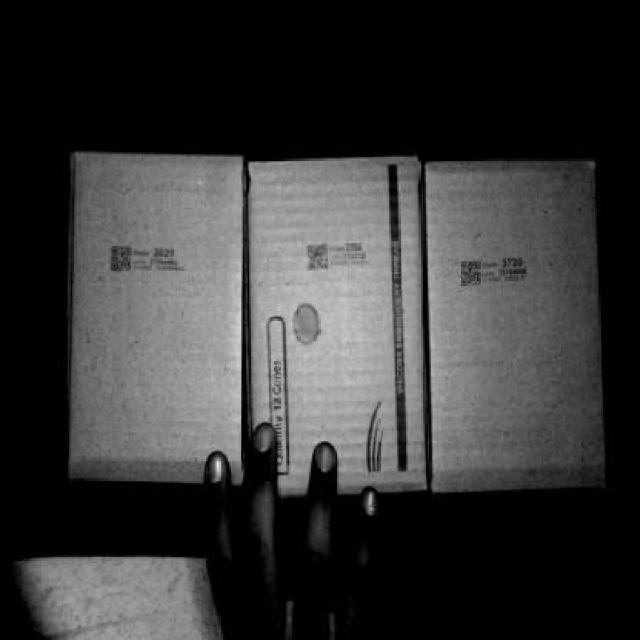cardboxes: (252, 152, 428, 500), (428, 161, 608, 490), (79, 143, 243, 491)
